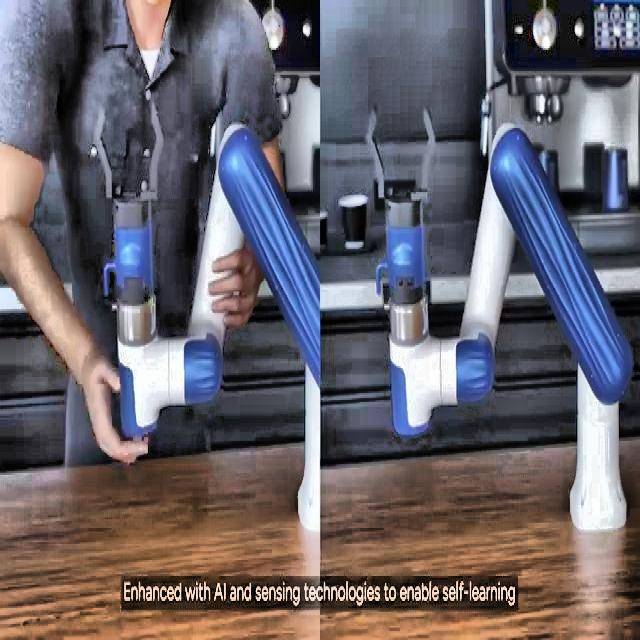human: (0, 0, 286, 466)
robot: (373, 118, 633, 532), (85, 100, 322, 530)
